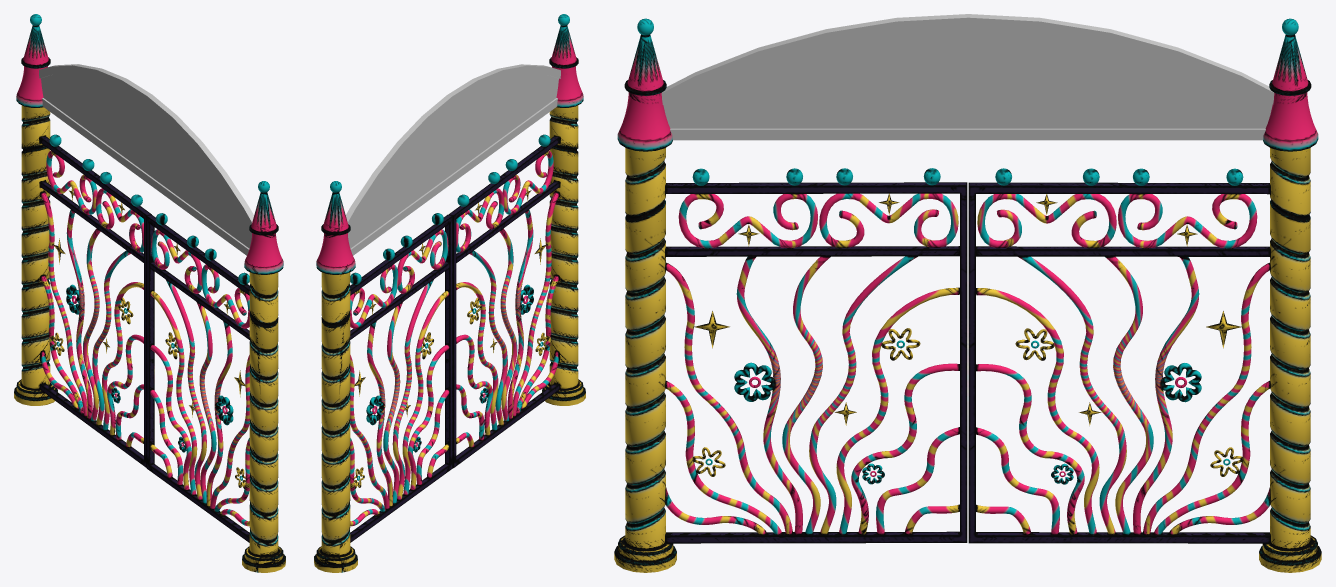
Rendered from Portail.fbx.
3 views of the same model, side by side, from view 1: azimuth 30°, elevation 25°; view 2: azimuth 150°, elevation 25°; view 3: azimuth 270°, elevation 25° (orthographic). The views are drawn at different scales.
Visible parts, largest first — view 1: Circle.009, Plane.016, Circle.001, Cylinder.001, Cylinder.002; view 2: Plane.016, Circle.001, Circle.009, Cylinder.002, Cylinder.001; view 3: Plane.016, Circle.001, Circle.009, Cylinder.002, Cylinder.001.
Part boxes in pixels (x1=…): Circle.009: x1=146, y1=213, x2=249, y2=542; Plane.016: x1=39, y1=64, x2=253, y2=255; Circle.001: x1=40, y1=134, x2=151, y2=467; Cylinder.001: x1=242, y1=181, x2=285, y2=572; Cylinder.002: x1=14, y1=14, x2=57, y2=405; Plane.016: x1=345, y1=64, x2=560, y2=255; Circle.001: x1=350, y1=213, x2=452, y2=542; Circle.009: x1=448, y1=134, x2=559, y2=468; Cylinder.002: x1=314, y1=181, x2=357, y2=572; Cylinder.001: x1=542, y1=14, x2=585, y2=405; Plane.016: x1=661, y1=14, x2=1274, y2=140; Circle.001: x1=968, y1=168, x2=1270, y2=543; Circle.009: x1=665, y1=168, x2=967, y2=543; Cylinder.002: x1=1259, y1=18, x2=1321, y2=572; Cylinder.001: x1=614, y1=18, x2=676, y2=572.
Bounding box in the file's own units: 82.19 × 789 × 930.
